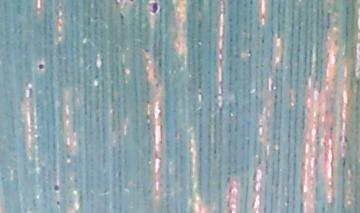tarspot: (148, 1, 159, 20), (35, 61, 46, 71), (53, 183, 60, 193), (54, 200, 62, 206)
